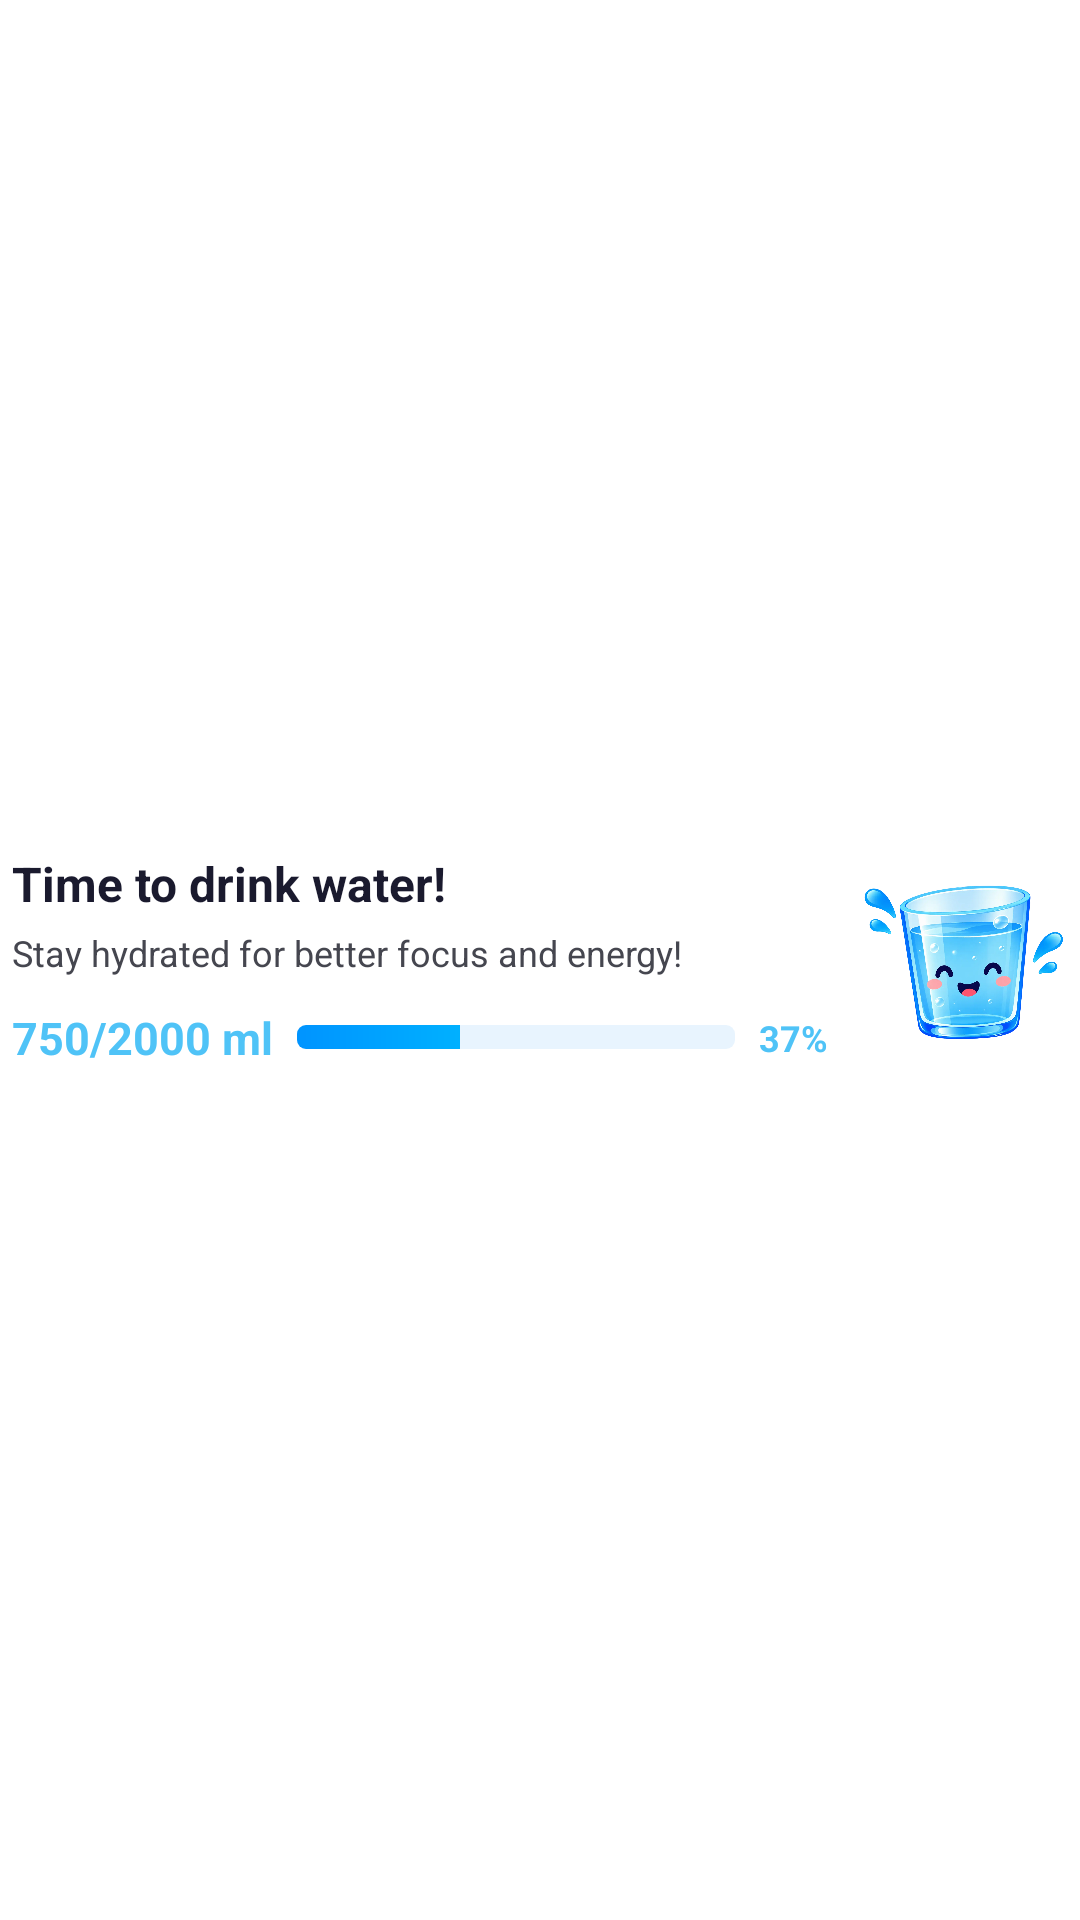

Named icons in this screenshot (1080w x 1920h) and their bounding boxes, [left=x1, top=y1, right=x2, bottom=y2]:
cup noti: [left=864, top=886, right=1063, bottom=1039]
